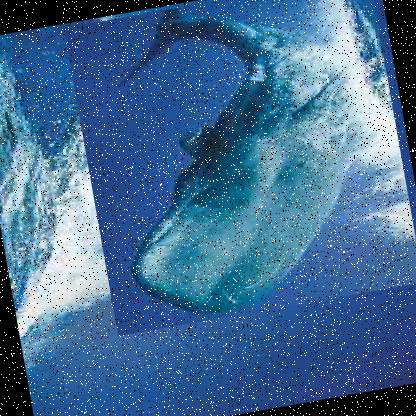sperm_whale: (63, 0, 415, 336)
